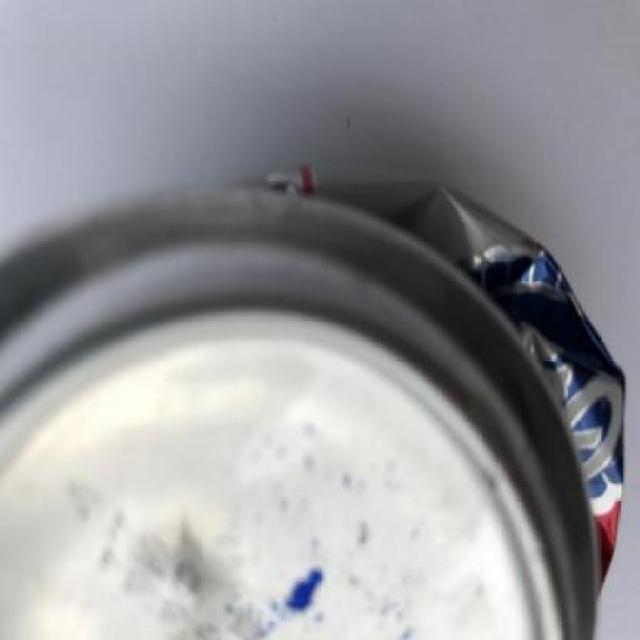METAL: (0, 162, 626, 638)
